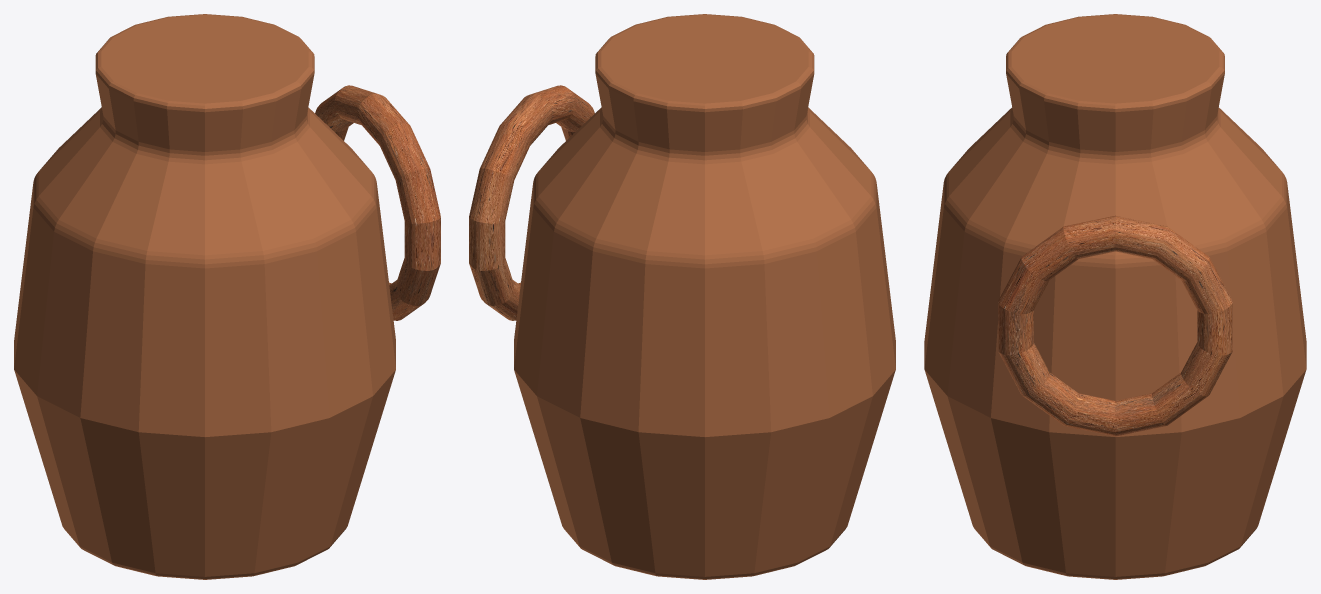
The model's file is beer-jug-v01.glb.
3 renders of one model, left to right at view 1: azimuth 30°, elevation 25°; view 2: azimuth 150°, elevation 25°; view 3: azimuth 270°, elevation 25°, orthographic.
Visible parts, largest first — view 1: beer-jug; view 2: beer-jug; view 3: beer-jug.
Boxes of the visible parts, <box> form: beer-jug: <box>14,14,440,579</box>; beer-jug: <box>469,14,895,579</box>; beer-jug: <box>924,14,1306,579</box>.
Bounding box in the file's own units: 0.3973 × 0.5 × 0.3742.
1 material, 1 textured.
